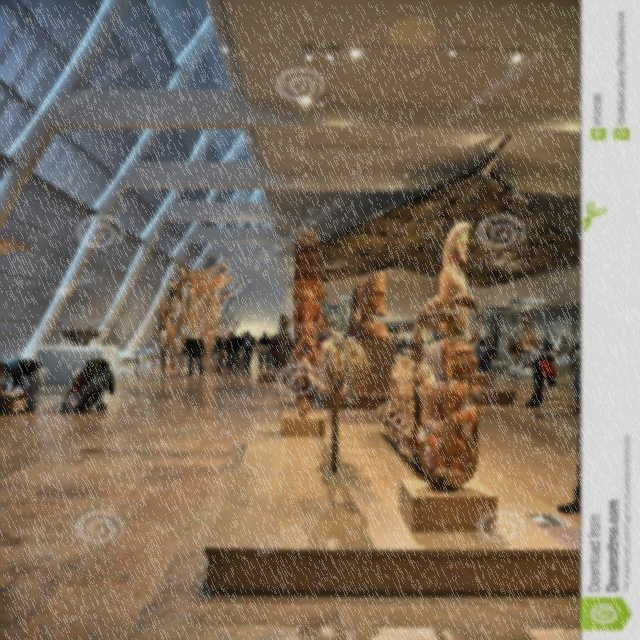pessoa: (556, 340, 580, 514), (504, 342, 558, 408), (0, 358, 49, 415), (182, 330, 207, 376), (0, 382, 28, 416), (472, 338, 497, 374), (238, 331, 257, 368), (480, 336, 498, 372), (255, 330, 272, 368), (389, 334, 432, 348), (226, 331, 240, 368), (212, 336, 226, 372), (221, 333, 231, 367), (269, 335, 279, 367), (287, 332, 295, 360), (240, 333, 244, 339), (267, 334, 273, 338), (274, 332, 278, 336)
